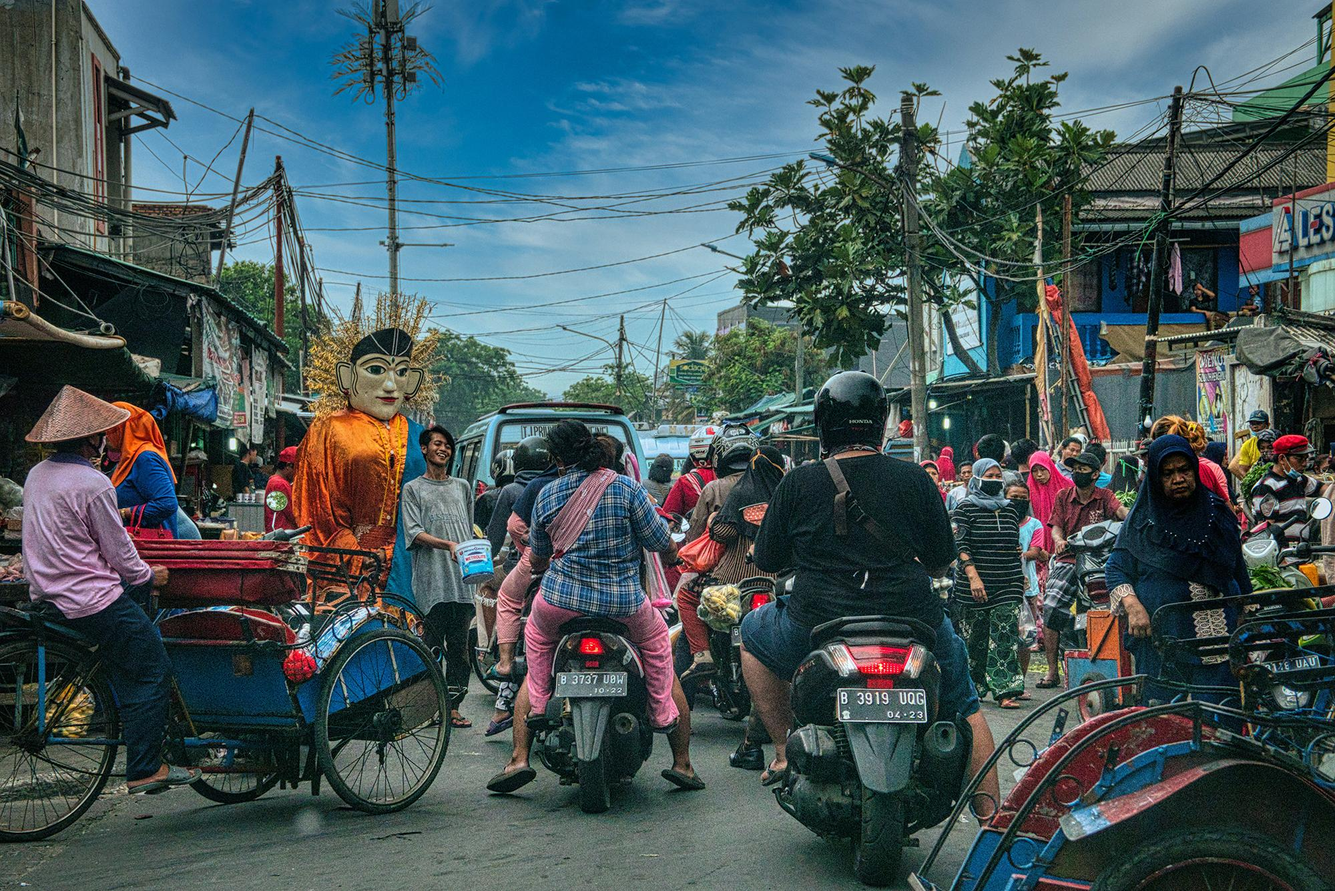helmet: (813, 369, 892, 455), (705, 421, 763, 481)
nohelmet: (1147, 433, 1202, 506), (419, 424, 457, 475), (1063, 452, 1101, 494), (970, 457, 1005, 499), (1028, 450, 1054, 488)
